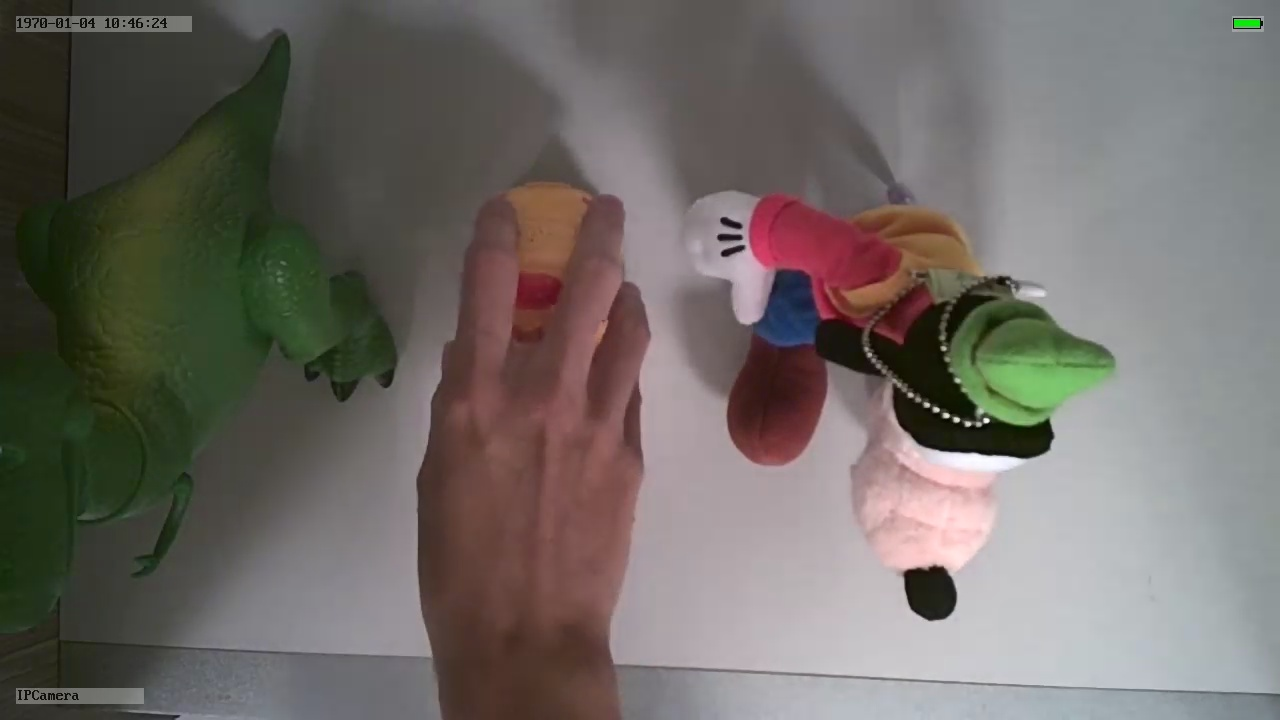goofy: (676, 182, 1122, 626)
